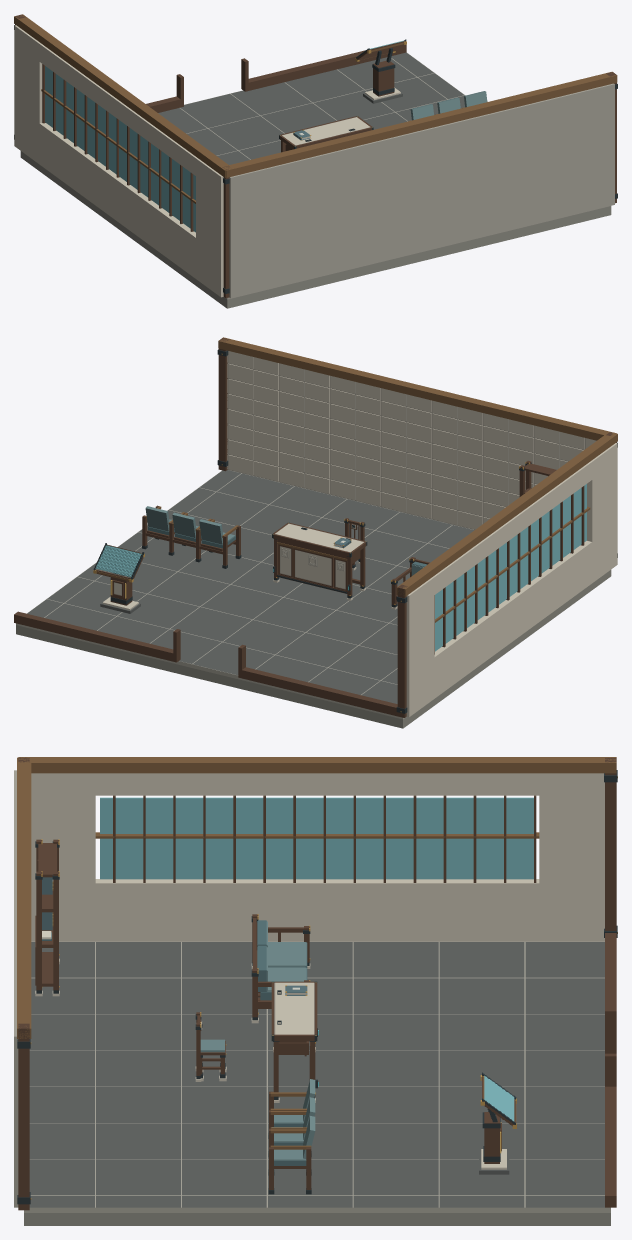
The model's file is visual-far.glb.
3 renders of one model, top to bottom at view 1: azimuth 30°, elevation 25°; view 2: azimuth 150°, elevation 25°; view 3: azimuth 270°, elevation 25°, orthographic. The views are drawn at different scales.
Parts seen in each view (by area): view 1: 真实窗洞、木梁与切角房间墙, 分层实心台基与独立石铺面, 展陈介绍牌, 旅游接待办理台, 三席连座与连续倾斜靠背; view 2: 真实窗洞、木梁与切角房间墙, 分层实心台基与独立石铺面, 旅游接待办理台, 三席连座与连续倾斜靠背, 展陈介绍牌, 书架书柜 · 用途材质派生; view 3: 分层实心台基与独立石铺面, 真实窗洞、木梁与切角房间墙, 旅游接待办理台, 三席连座与连续倾斜靠背, 书架书柜 · 用途材质派生, 展陈介绍牌, 沙发软垫靠背, 沙发框架, 餐椅.
Part boxes in pixels (x1,y1,x2,y2): 真实窗洞、木梁与切角房间墙: (14,14,617,298); 分层实心台基与独立石铺面: (20,52,611,308); 展陈介绍牌: (355,39,406,103); 旅游接待办理台: (279,116,373,152); 三席连座与连续倾斜靠背: (409,91,487,120); 真实窗洞、木梁与切角房间墙: (14,337,617,717); 分层实心台基与独立石铺面: (16,470,611,728); 旅游接待办理台: (272,522,367,600); 三席连座与连续倾斜靠背: (142,505,241,568); 展陈介绍牌: (93,543,144,613); 书架书柜 · 用途材质派生: (519,460,556,496); 分层实心台基与独立石铺面: (24,941,610,1225); 真实窗洞、木梁与切角房间墙: (14,757,617,1210); 旅游接待办理台: (271,981,318,1102); 三席连座与连续倾斜靠背: (268,1079,315,1194); 书架书柜 · 用途材质派生: (35,839,59,996); 展陈介绍牌: (479,1072,516,1174); 沙发软垫靠背: (257,920,307,1000); 沙发框架: (251,914,310,1023); 餐椅: (195,1012,226,1081).
Bounding box in the file's own units: 9.04 × 3.08 × 8.44.
25 materials, 25 textured.
